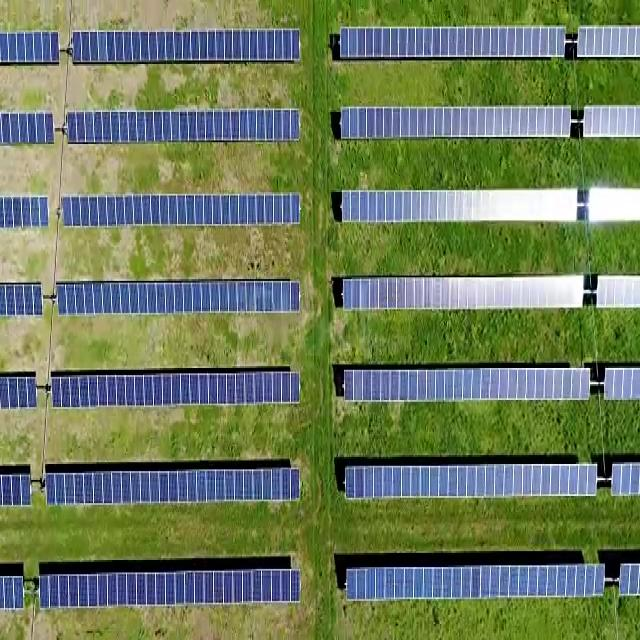Solar-panels: (41, 571, 302, 609), (350, 566, 607, 603), (348, 274, 585, 313), (45, 471, 299, 507), (347, 462, 597, 498), (343, 186, 579, 224), (344, 366, 591, 401), (52, 373, 302, 406), (57, 283, 301, 315), (65, 112, 298, 145), (62, 197, 302, 228), (343, 107, 573, 139), (73, 30, 302, 62), (340, 25, 566, 57)
